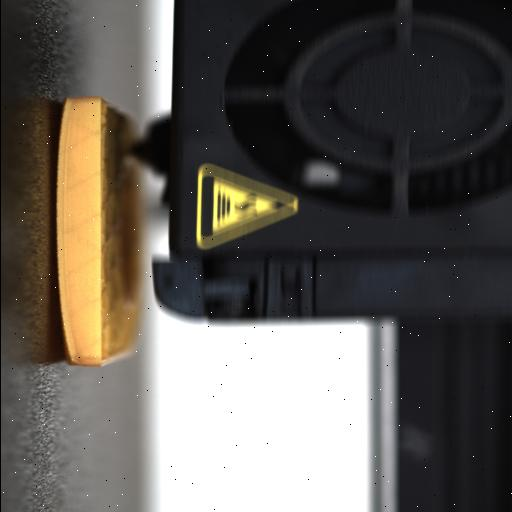warp: (50, 312, 84, 369), (51, 91, 73, 139)
